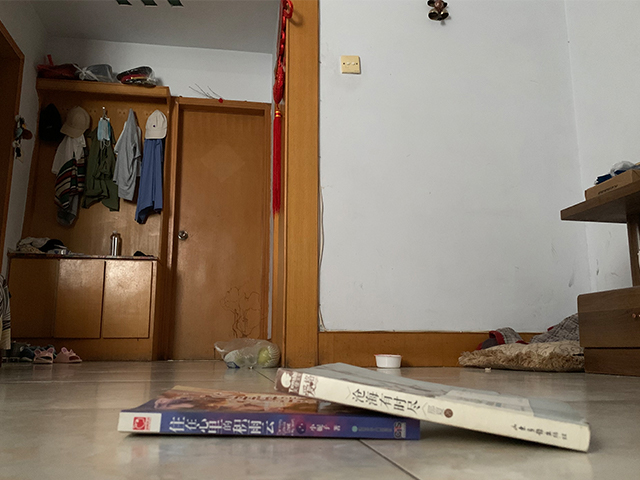book: (285, 361, 593, 449), (117, 372, 409, 441)
cabinet: (5, 250, 175, 363)
slippers: (32, 346, 57, 361), (59, 347, 81, 363)
